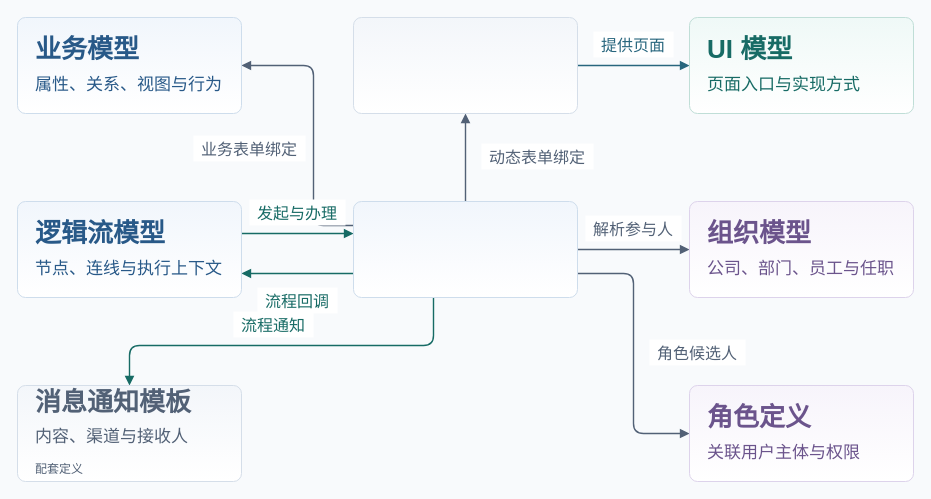
This 931x499 diagram has some shape labels left out. The shapes that lost their labels are listed below. From the top down, each one's centre as x and y in pixels, then its label:
At point 465,65: "动态表单定义 表单内容与审批绑定 配套定义".
At point 465,249: "审批流模型 人员任务、表单与回调".
